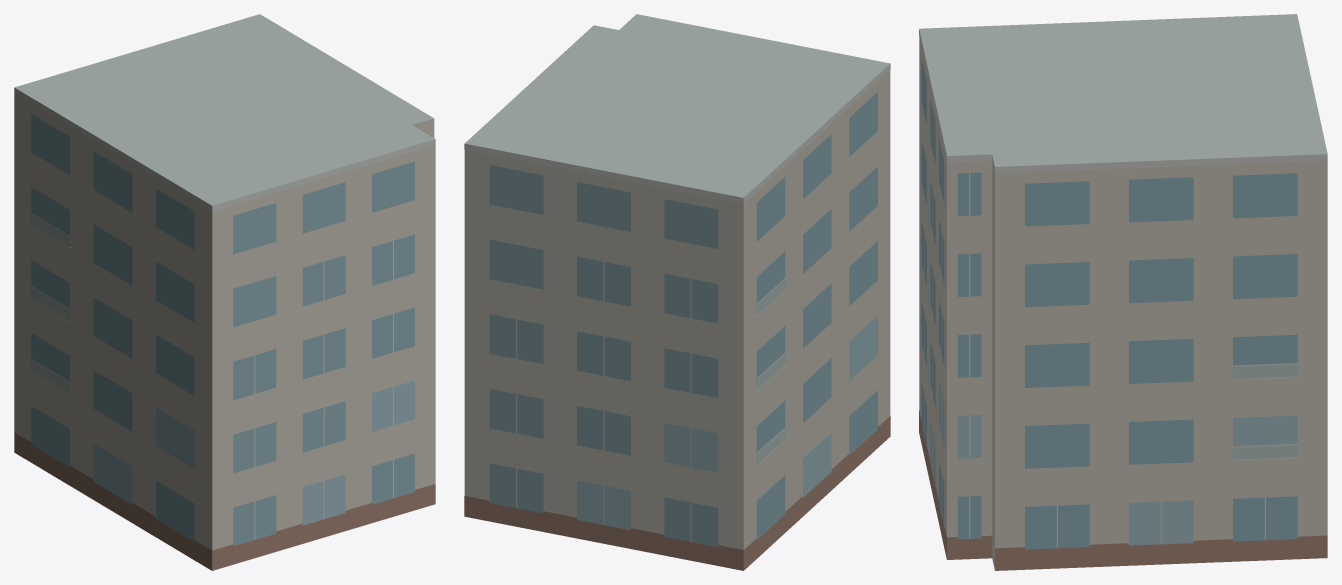
The model's file is survey-upis-32655117.glb.
3 views of the same model, side by side, from view 1: azimuth 30°, elevation 25°; view 2: azimuth 150°, elevation 25°; view 3: azimuth 270°, elevation 25° (orthographic). The views are drawn at different scales.
Visible parts, largest first — view 1: survey-upis-32655117.tmp; view 2: survey-upis-32655117.tmp; view 3: survey-upis-32655117.tmp.
Part boxes in pixels (bbox=[...]): survey-upis-32655117.tmp: bbox=[14, 14, 435, 570]; survey-upis-32655117.tmp: bbox=[464, 14, 890, 570]; survey-upis-32655117.tmp: bbox=[919, 14, 1327, 570].
Size of the model in its own units: 12.19 by 15 by 13.76.
